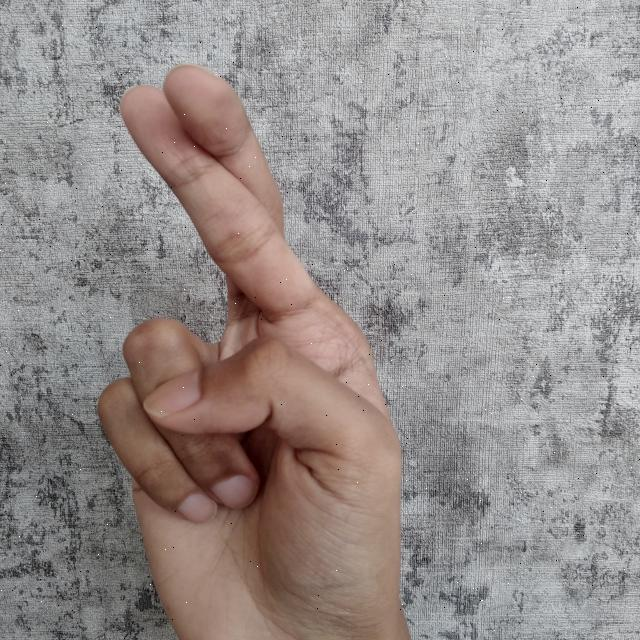R: (81, 56, 430, 640)
